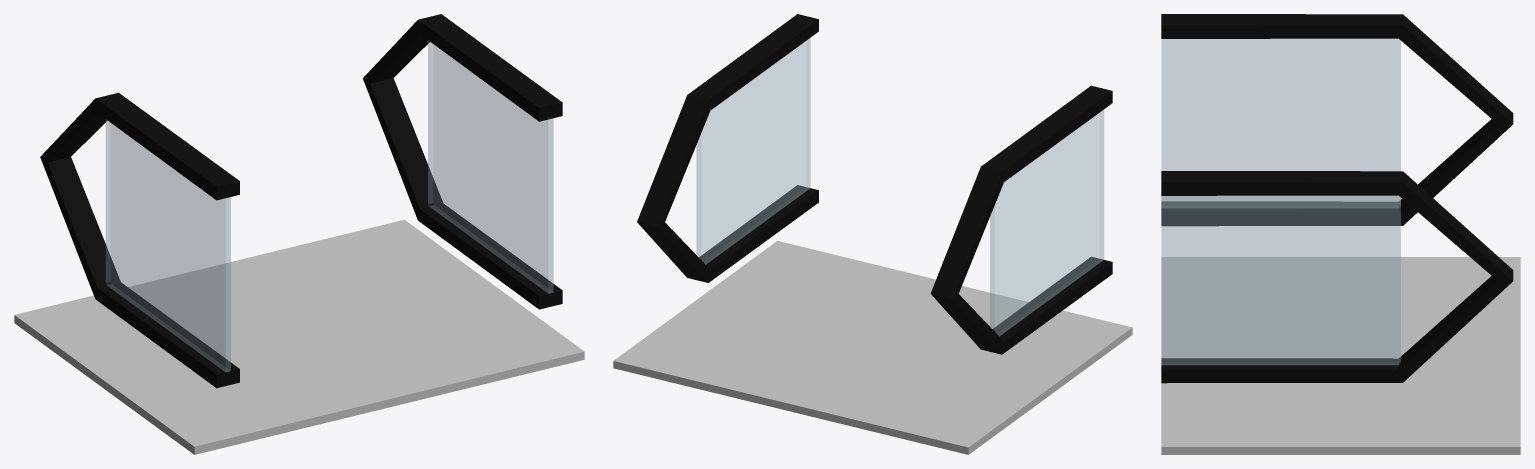
Rendered from airport.move.travelator_end.glb.
3 views of the same model, side by side, from view 1: azimuth 30°, elevation 25°; view 2: azimuth 150°, elevation 25°; view 3: azimuth 270°, elevation 25° (orthographic). The views are drawn at different scales.
Visible parts, largest first — view 1: main__steel_stainless, main__glass, main__rubber; view 2: main__steel_stainless, main__glass, main__rubber; view 3: main__glass, main__steel_stainless, main__rubber.
Boxes of the visible parts, x1,y1,x2,y2 form: main__steel_stainless: [14, 219, 584, 454]; main__glass: [106, 40, 553, 371]; main__rubber: [40, 14, 562, 388]; main__steel_stainless: [613, 241, 1132, 454]; main__glass: [696, 38, 1103, 335]; main__rubber: [637, 14, 1112, 354]; main__glass: [1161, 39, 1400, 364]; main__steel_stainless: [1161, 257, 1520, 454]; main__rubber: [1161, 14, 1513, 383].
Bounding box in the file's own units: 1.5 × 0.965 × 1.2.
